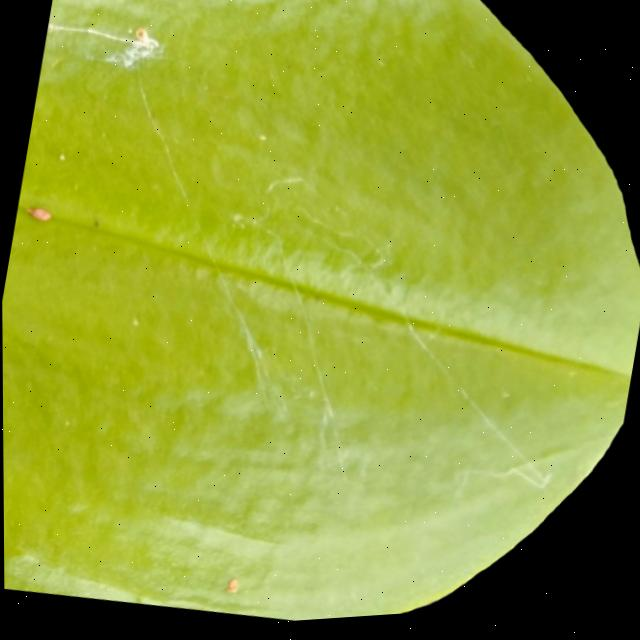mite: (19, 10, 170, 241), (20, 200, 107, 236), (215, 573, 247, 603), (25, 205, 54, 224), (50, 146, 73, 168), (221, 578, 241, 598), (86, 215, 105, 234), (252, 132, 271, 149), (59, 417, 73, 430), (55, 151, 68, 164), (255, 135, 269, 146), (89, 219, 101, 230)
spots: (2, 0, 640, 625)
